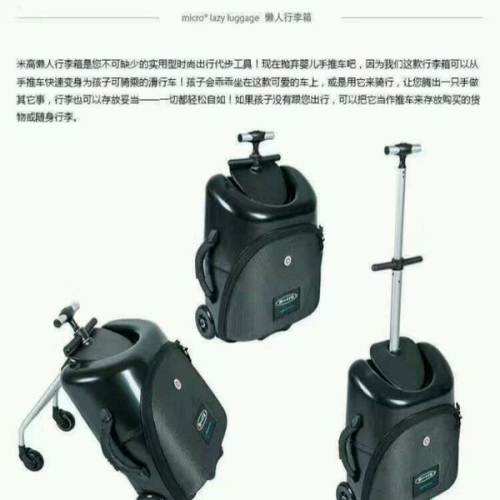luggage: (335, 141, 463, 499), (193, 131, 325, 343)
